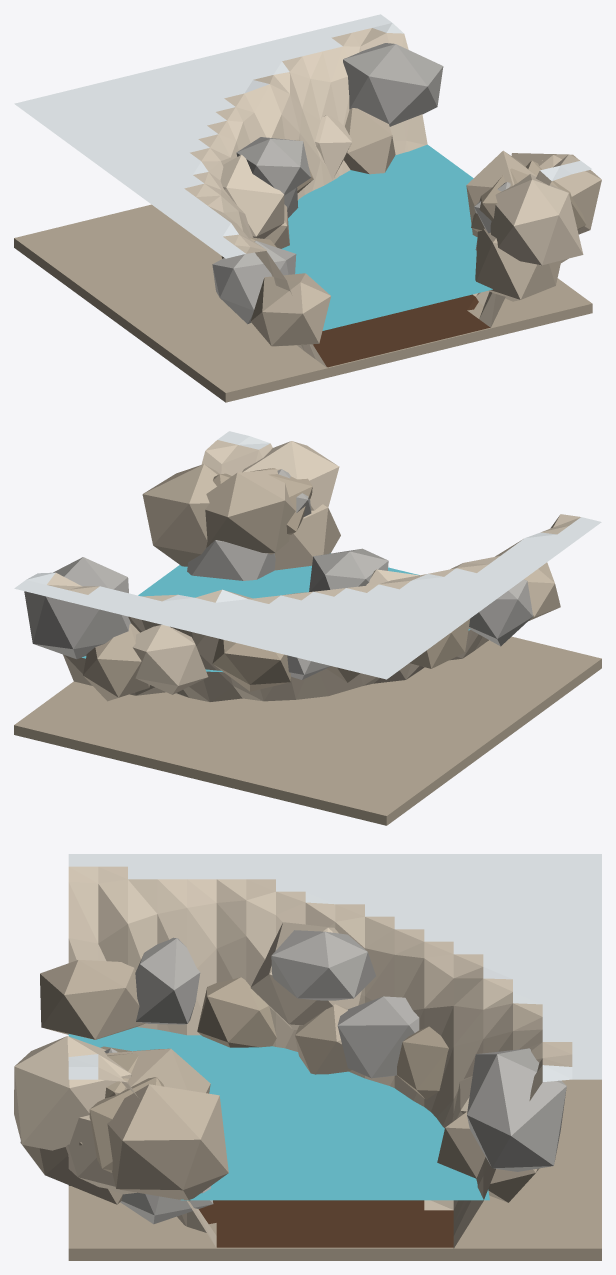
File: stream_bend.glb
3 renders of one model, top to bottom at view 1: azimuth 30°, elevation 25°; view 2: azimuth 150°, elevation 25°; view 3: azimuth 270°, elevation 25°, orthographic. The views are drawn at different scales.
Parts seen in each view (by area): view 1: stream_bend, part_flow; view 2: stream_bend, part_flow; view 3: stream_bend, part_flow.
Boxes of the visible parts, x1=… form: stream_bend: x1=14, y1=14, x2=601, y2=402; part_flow: x1=282, y1=144, x2=492, y2=330; stream_bend: x1=14, y1=431, x2=601, y2=825; part_flow: x1=82, y1=553, x2=470, y2=672; stream_bend: x1=14, y1=854, x2=601, y2=1260; part_flow: x1=68, y1=1027, x2=489, y2=1200.
Bounding box in the file's own units: 2.18 × 0.8012 × 2.2.
